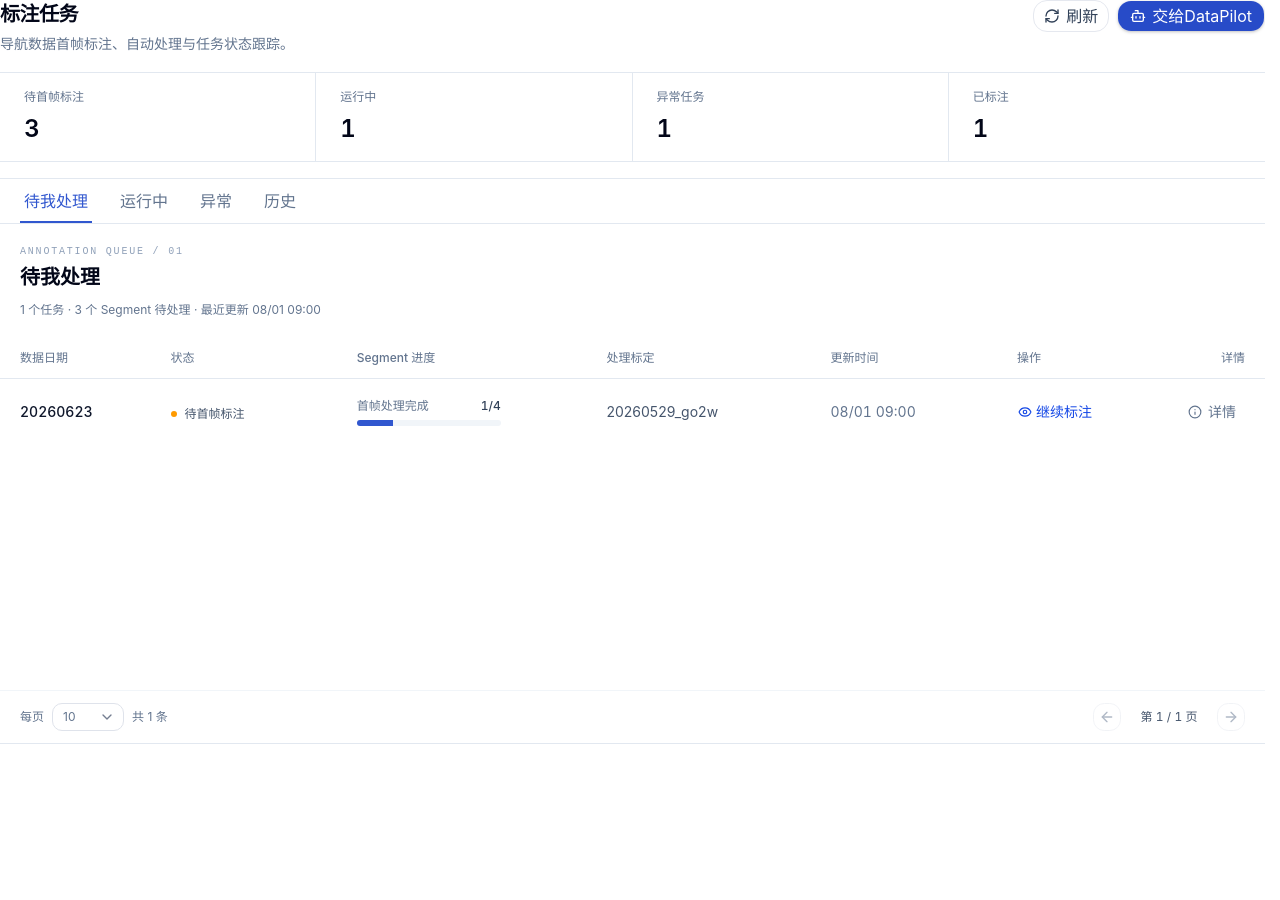
JobsIndexView › opens a detail popover with real summary data but no duplicated primary action
Click the button with aria-label "查看 20260623 任务详情". click: [1212, 412]
box: [1179,398,1245,426]
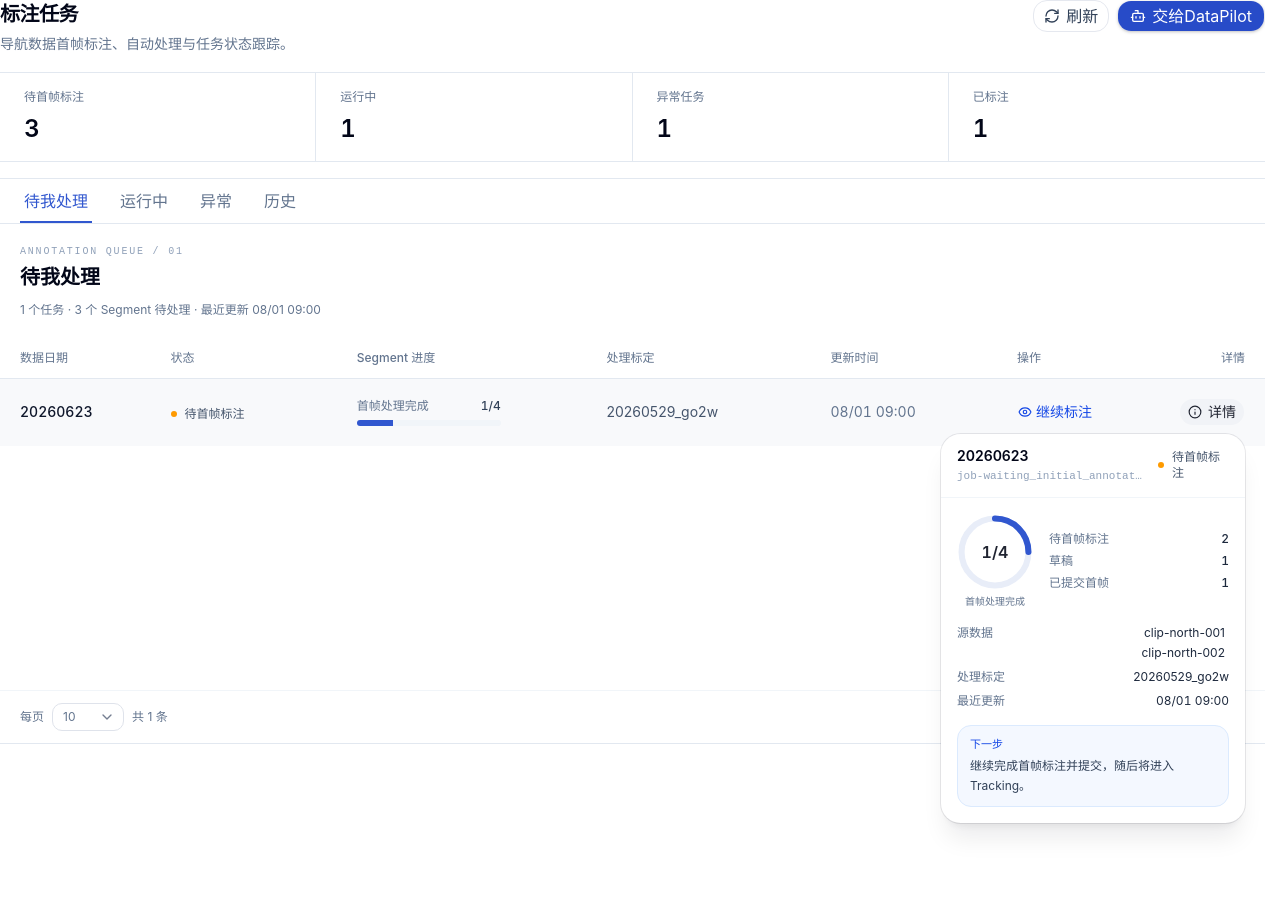
Expected: the text "clip-north-001" is shown, [1144,624,1225,640]
Expected: the text "20260529_go2w" below "clip-north-002" is shown, [1133,668,1229,684]
Expected: the text "下一步" is shown, [970,736,1003,750]
